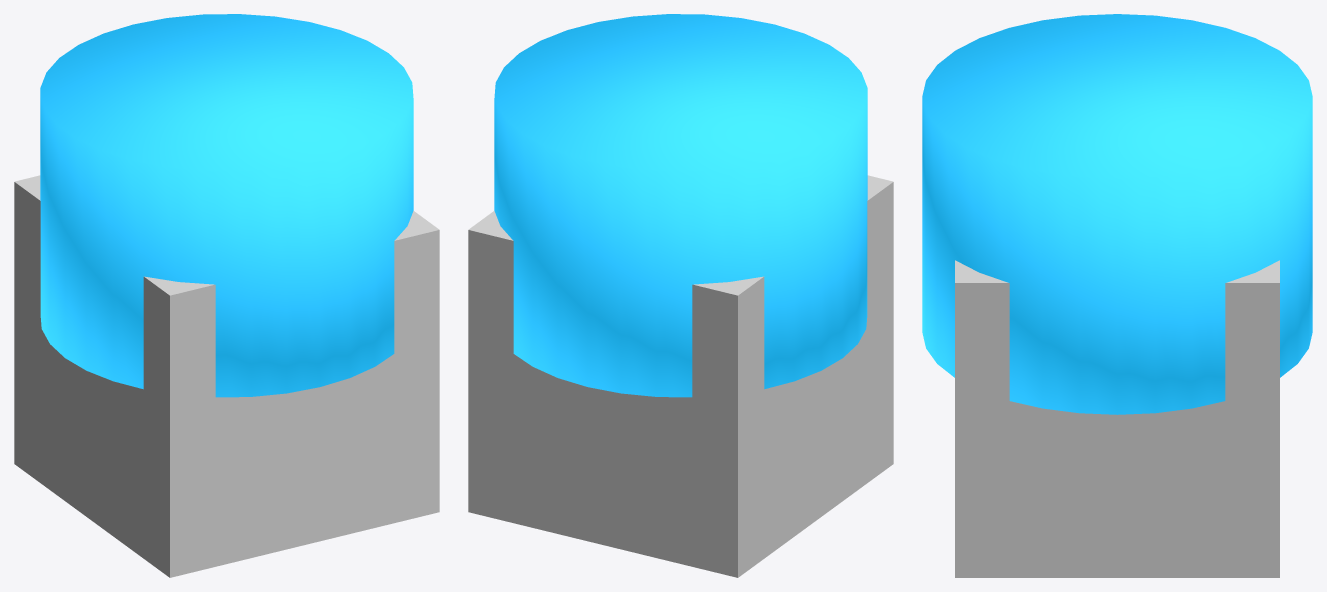
The model's file is phase2_mech.glb.
The picture shows the model from 3 angles, left to right: view 1: azimuth 30°, elevation 25°; view 2: azimuth 150°, elevation 25°; view 3: azimuth 270°, elevation 25°; orthographic projection. The views are drawn at different scales.
Parts seen in each view (by area): view 1: MechHousing, Cube; view 2: MechHousing, Cube; view 3: MechHousing, Cube.
Part boxes in pixels (left/top/right/bottom): MechHousing: left=40, top=14, right=413, bottom=397; Cube: left=14, top=175, right=439, bottom=577; MechHousing: left=494, top=14, right=867, bottom=397; Cube: left=468, top=175, right=893, bottom=577; MechHousing: left=922, top=14, right=1312, bottom=414; Cube: left=955, top=260, right=1279, bottom=577.
Bounding box in the file's own units: 2.4 × 2.8 × 2.4.
